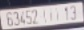1: (64, 6, 69, 21)
2: (32, 9, 39, 24)
3: (70, 5, 77, 21), (13, 11, 20, 26)
4: (20, 10, 26, 25)
5: (26, 9, 32, 25)
6: (6, 11, 13, 26)
a: (48, 7, 54, 22)
